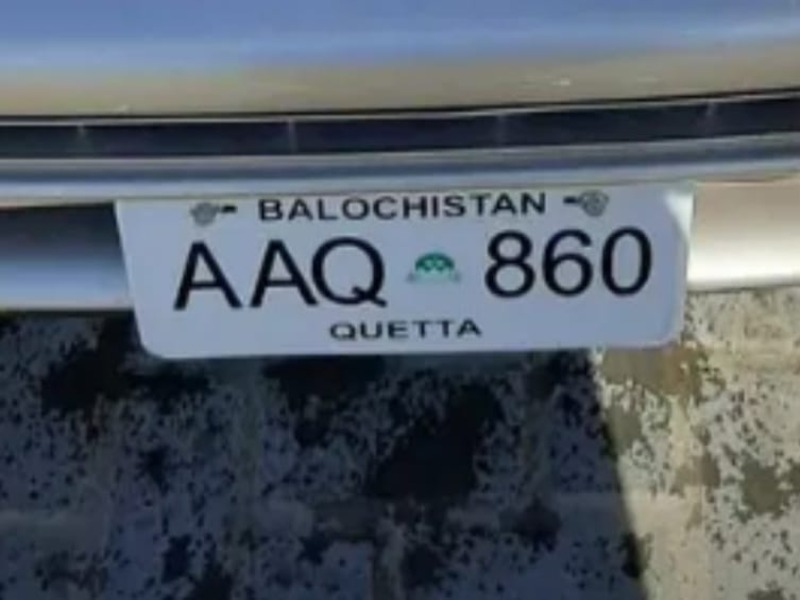License Plate: (114, 183, 697, 364)
